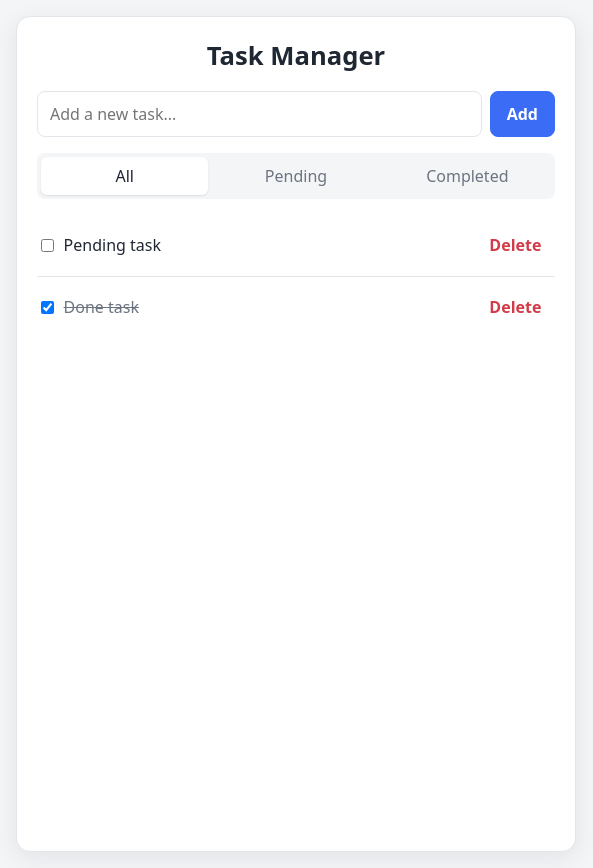
Scenario: App › adds a new task to the list
Check: the text "Pending task" is shown, box [64,233,161,257]
In the field labelled "Add a new task...": (259, 114) [37,91,482,137], type "Walk the dog"
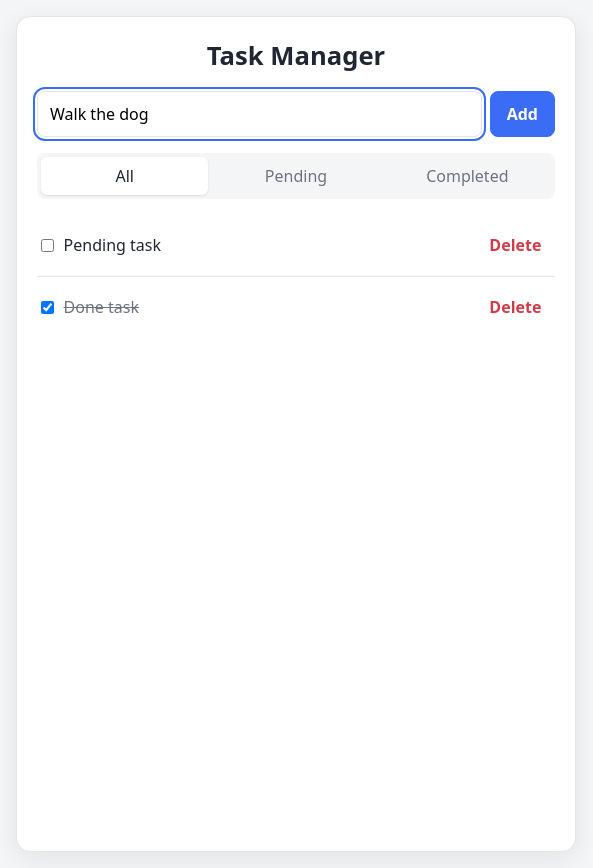
Click the button "Add": click(522, 114) [490,91,555,137]
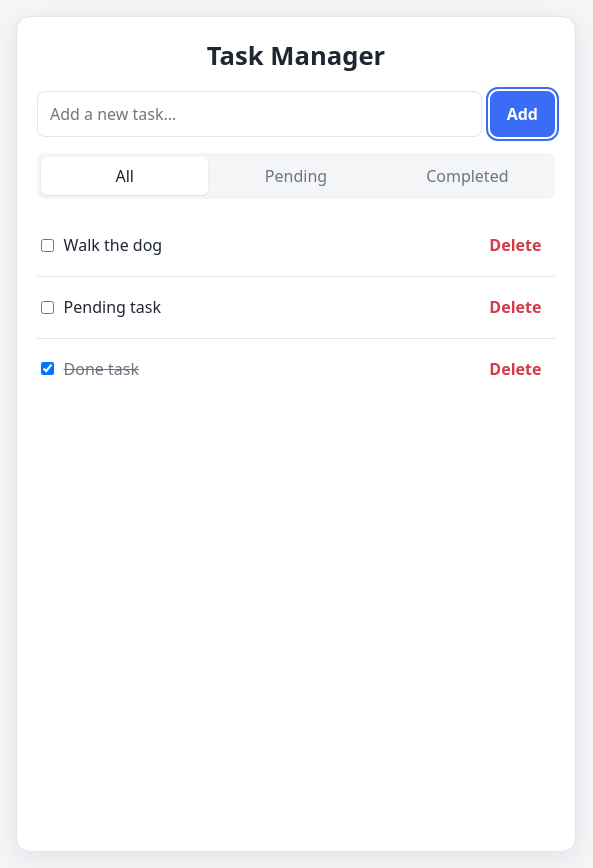
Check: the text "Walk the dog" is shown, box [64,233,162,257]
